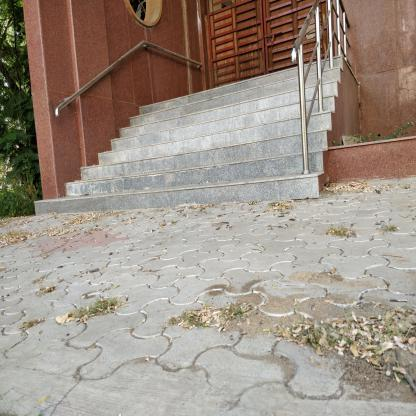stairs: (139, 104, 298, 215)
